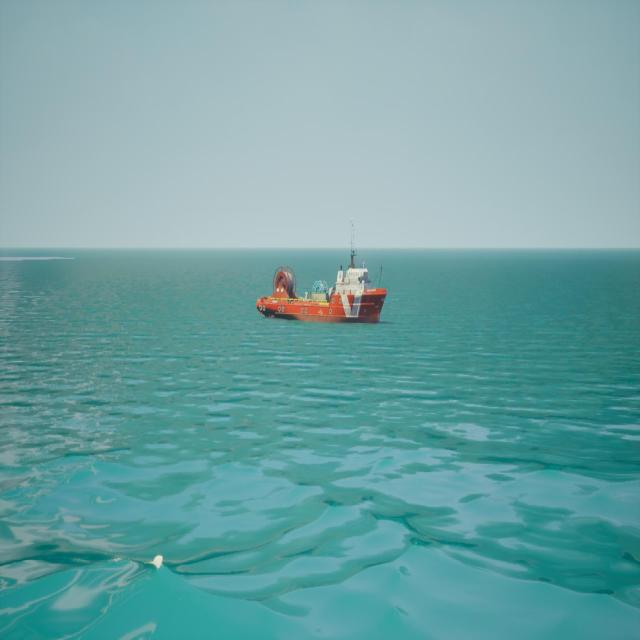tug boat: (258, 230, 387, 325)
